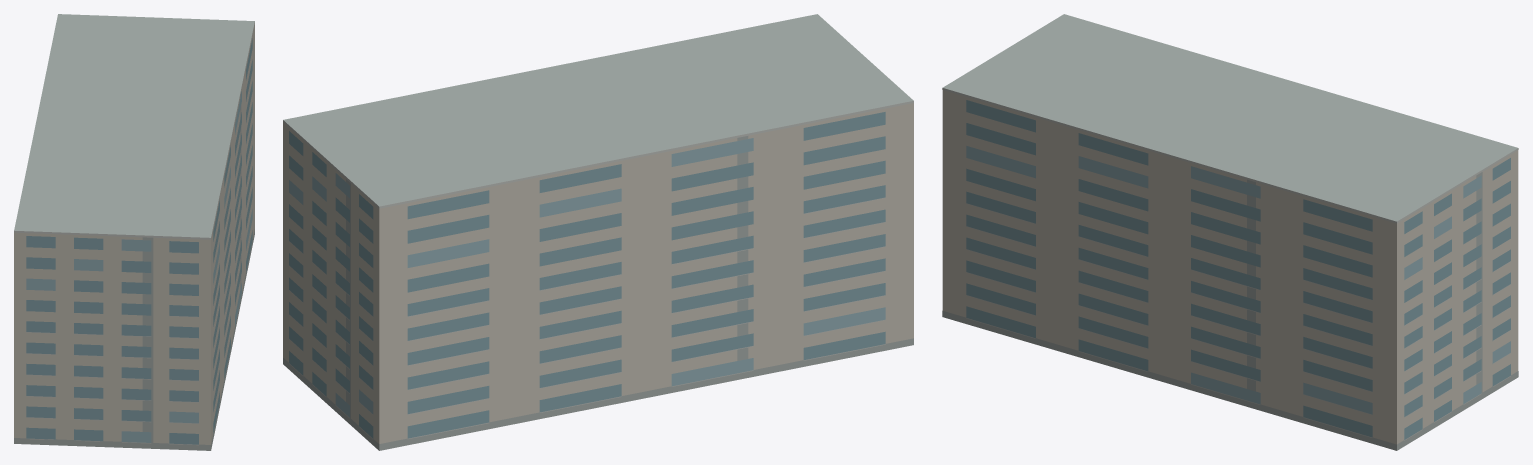
The model's file is residential-c604ecdc-98b0-4155-b1ac-91bb75878212.glb.
3 views of the same model, side by side, from view 1: azimuth 30°, elevation 25°; view 2: azimuth 150°, elevation 25°; view 3: azimuth 270°, elevation 25° (orthographic). The views are drawn at different scales.
Parts seen in each view (by area): view 1: residential-c604ecdc-98b0-4155-b1ac-91bb75878212.tmp; view 2: residential-c604ecdc-98b0-4155-b1ac-91bb75878212.tmp; view 3: residential-c604ecdc-98b0-4155-b1ac-91bb75878212.tmp.
Part boxes in pixels (box(x1,y1,x2,y2)): residential-c604ecdc-98b0-4155-b1ac-91bb75878212.tmp: box(14, 14, 254, 450); residential-c604ecdc-98b0-4155-b1ac-91bb75878212.tmp: box(283, 14, 913, 450); residential-c604ecdc-98b0-4155-b1ac-91bb75878212.tmp: box(942, 14, 1518, 450).
Size of the model in its own units: 52.45 by 27 by 61.48.
